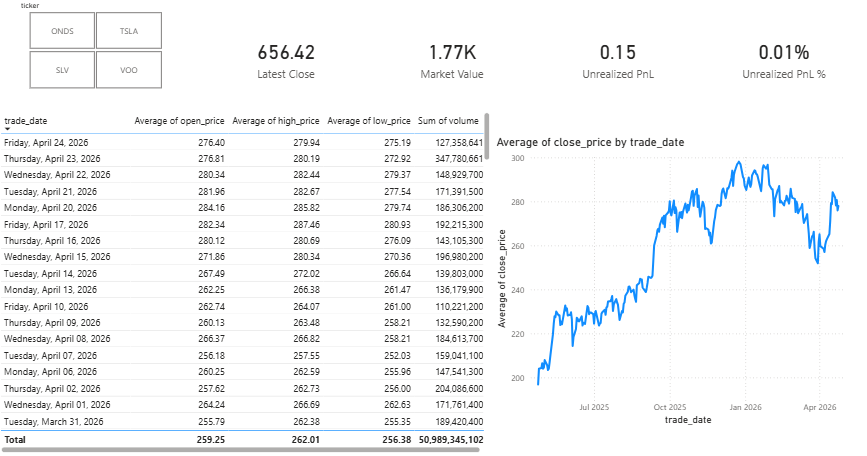

The page's visual inventory and layout, read from the dashboard file:
{"tool":"powerbi","page":{"name":"Holdings","canvas":[1280,720],"ordinal":2},"visuals":[{"type":"slicer","fields":{"Values":["dim_holdings.ticker"]},"box":[21.9,32.2,242.8,139],"z":0},{"type":"card","fields":{"Values":["dim_holdings.Latest Close"]},"box":[301.3,43.9,242.8,150.7],"z":1},{"type":"card","fields":{"Values":["dim_holdings.Market Value"]},"box":[544.2,43.9,242.8,150.7],"z":2},{"type":"card","fields":{"Values":["dim_holdings.Unrealized PnL"]},"box":[787,43.9,242.8,150.7],"z":3},{"type":"card","fields":{"Values":["dim_holdings.Unrealized PnL %"]},"box":[1029.9,43.9,242.8,150.7],"z":4},{"type":"tableEx","fields":{"Values":["prices.trade_date","Avg(prices.open_price)","Avg(prices.high_price)","Avg(prices.low_price)","Sum(prices.volume)"]},"box":[0,194.3,725.9,507.7],"z":5},{"type":"lineChart","fields":{"Category":["prices.trade_date"],"Y":["Avg(prices.close_price)"]},"box":[725.9,233.2,535.3,430],"z":6}]}

Visuals, with their boxes on the page's 1280x720 design canvas (x1, y1, x2, y2). These are canvas units, not pixel positions in the 867x456 screenshot, which may show the page scaled, cropped or inside an application window:
slicer - dim_holdings.ticker: select_region(22, 32, 265, 171)
card - dim_holdings.Latest Close: select_region(301, 44, 544, 195)
card - dim_holdings.Market Value: select_region(544, 44, 787, 195)
card - dim_holdings.Unrealized PnL: select_region(787, 44, 1030, 195)
card - dim_holdings.Unrealized PnL %: select_region(1030, 44, 1273, 195)
tableEx - prices.trade_date x Avg(prices.open_price): select_region(0, 194, 726, 702)
lineChart - prices.trade_date x Avg(prices.close_price): select_region(726, 233, 1261, 663)
